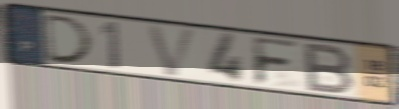1: (98, 20, 121, 70)
4: (206, 31, 247, 86)
B: (303, 41, 357, 96)
D: (43, 13, 97, 66)
F: (250, 34, 303, 88)
V: (144, 23, 201, 78)
